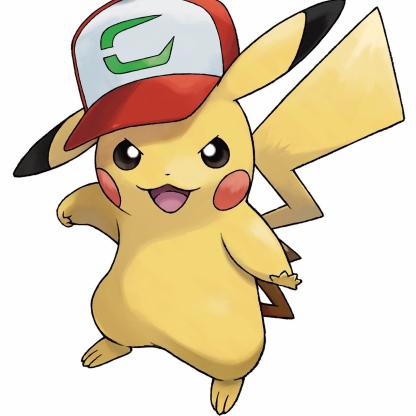Pikachu: (12, 100, 416, 416)
